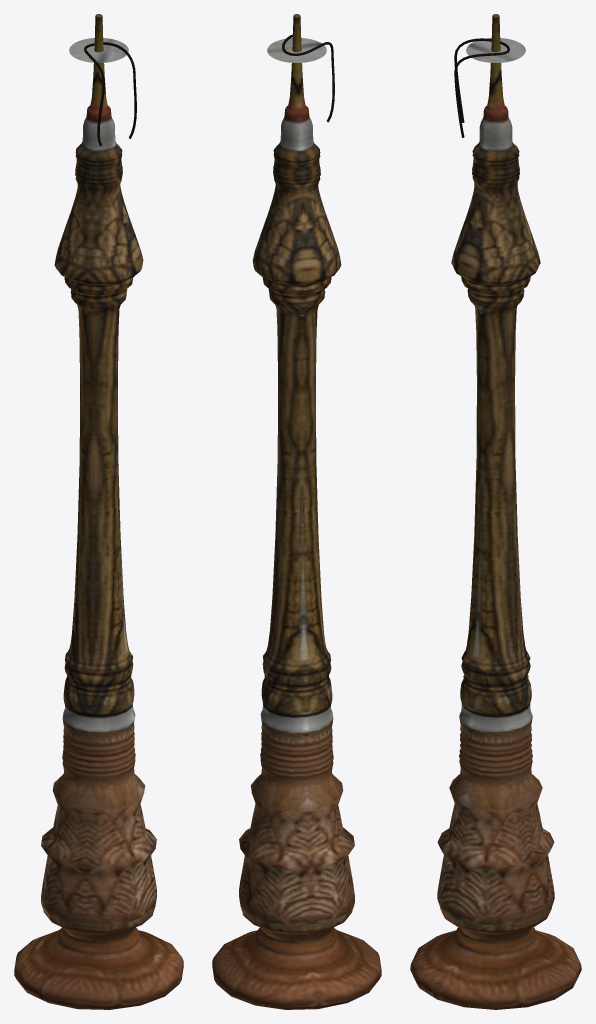
Rendered from Serunai Kelantan (ADR (KLTN) CHEISA 1).fbx.
3 views of the same model, side by side, from view 1: azimuth 30°, elevation 25°; view 2: azimuth 150°, elevation 25°; view 3: azimuth 270°, elevation 25° (orthographic).
Visible parts, largest first — view 1: Serunai Kelantan (ADR (KLTN) CHEISA 1); view 2: Serunai Kelantan (ADR (KLTN) CHEISA 1); view 3: Serunai Kelantan (ADR (KLTN) CHEISA 1).
Boxes of the visible parts, x1=… form: Serunai Kelantan (ADR (KLTN) CHEISA 1): x1=14, y1=14, x2=183, y2=1009; Serunai Kelantan (ADR (KLTN) CHEISA 1): x1=212, y1=14, x2=381, y2=1009; Serunai Kelantan (ADR (KLTN) CHEISA 1): x1=410, y1=14, x2=581, y2=1009.
Bounding box in the file's own units: 8.2 × 50.85 × 8.2.
1 material, 1 textured.
